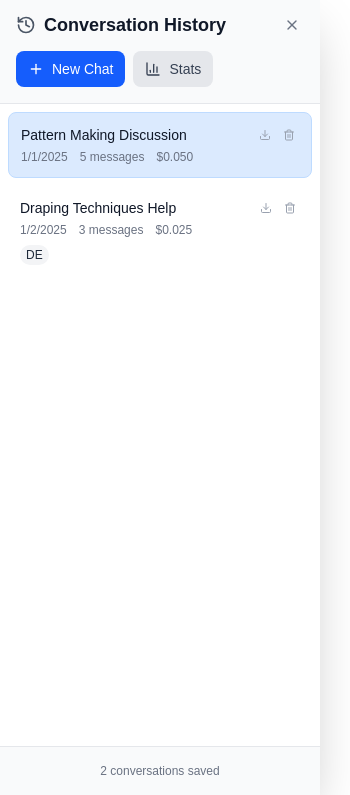
Test: ConversationHistory › Stats Panel › should show stats when toggle is clicked
The width and height of the screenshot is (350, 795).
Click the button "Stats": [173, 69] box [134,51,213,87]
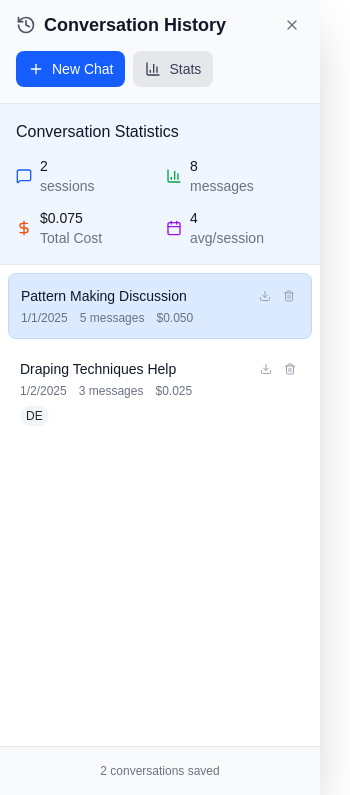
Check: the heading "Conversation Statistics" is shown, box [16,123,179,140]
Check: the text "2" is shown, box [40,158,48,174]
Check: the text "8" is shown, box [190,158,198,174]
